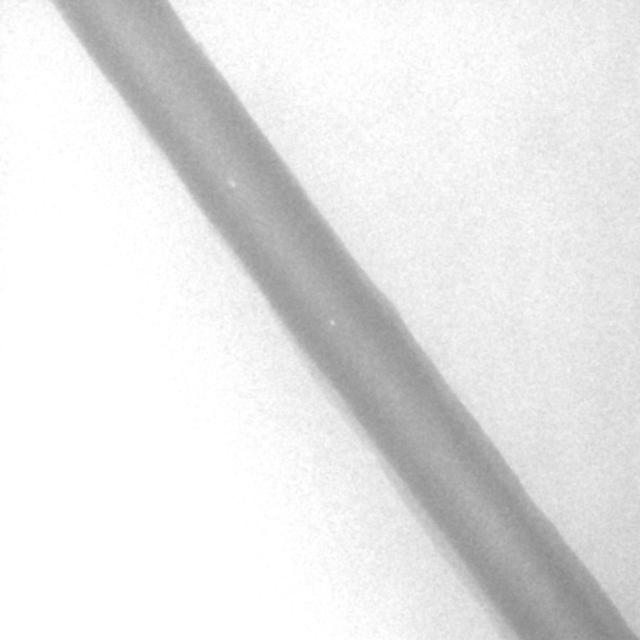air hole: (225, 173, 237, 190), (327, 317, 336, 327)
